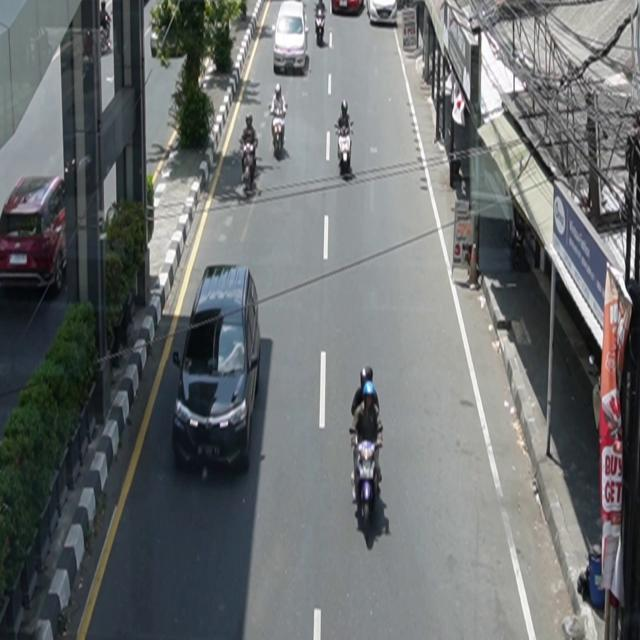car: (172, 264, 262, 476), (1, 175, 68, 295), (274, 1, 310, 76), (367, 1, 398, 26)
